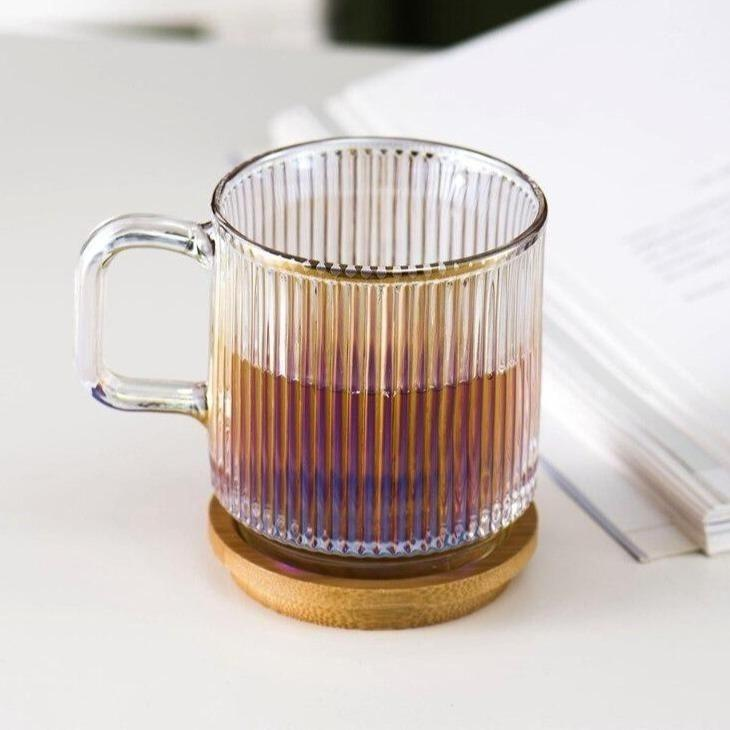glass-mug: (64, 128, 561, 586)
